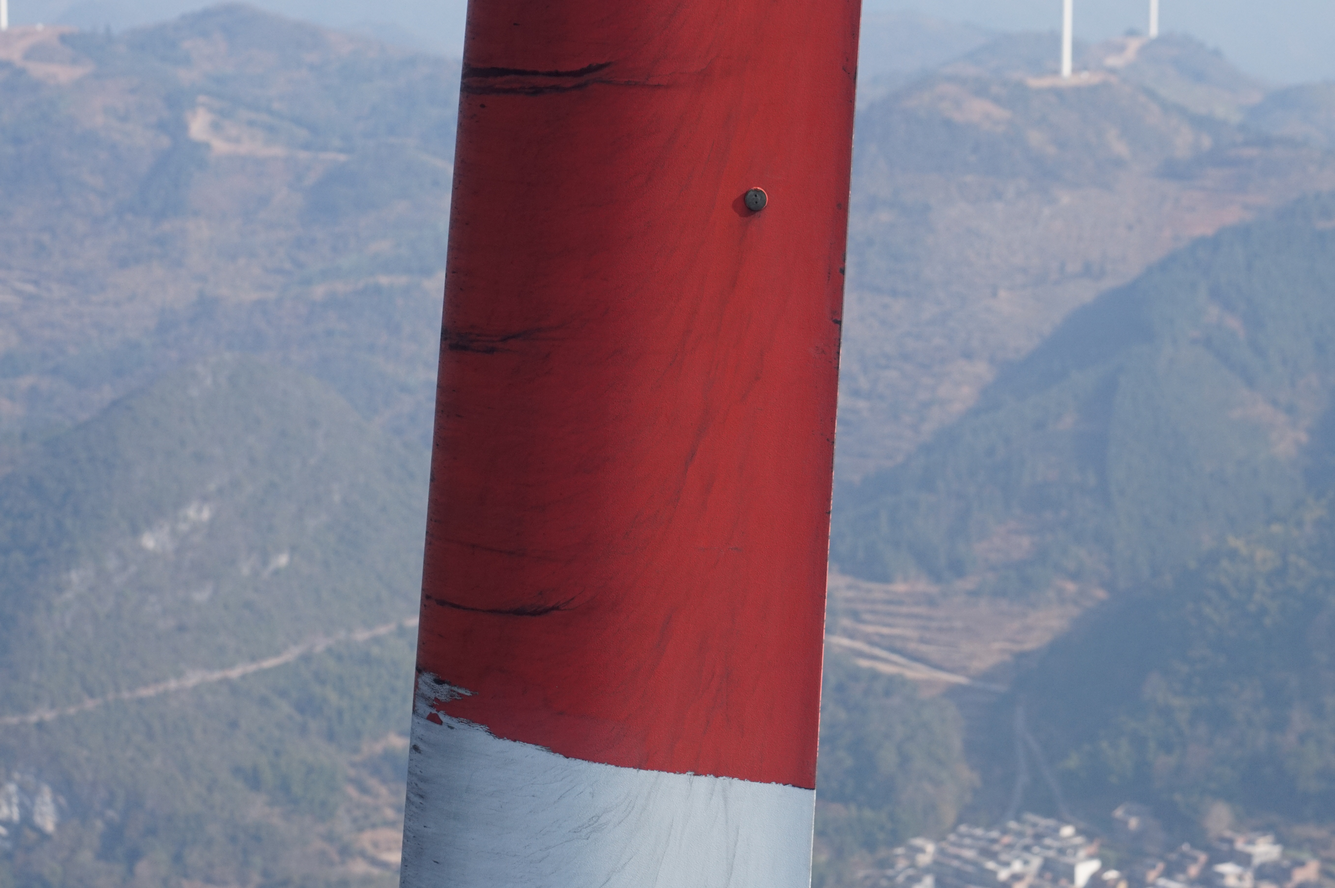Dirt: (460, 61, 617, 97), (428, 592, 583, 620), (444, 330, 538, 356)
